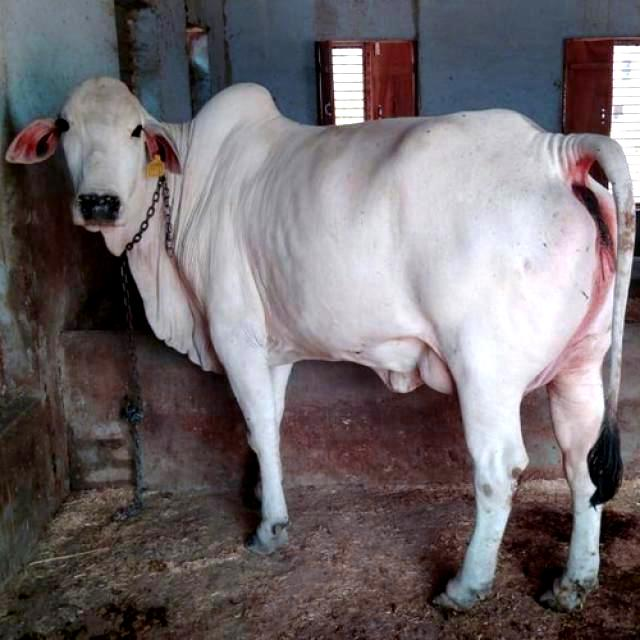COW: (8, 78, 634, 609)
